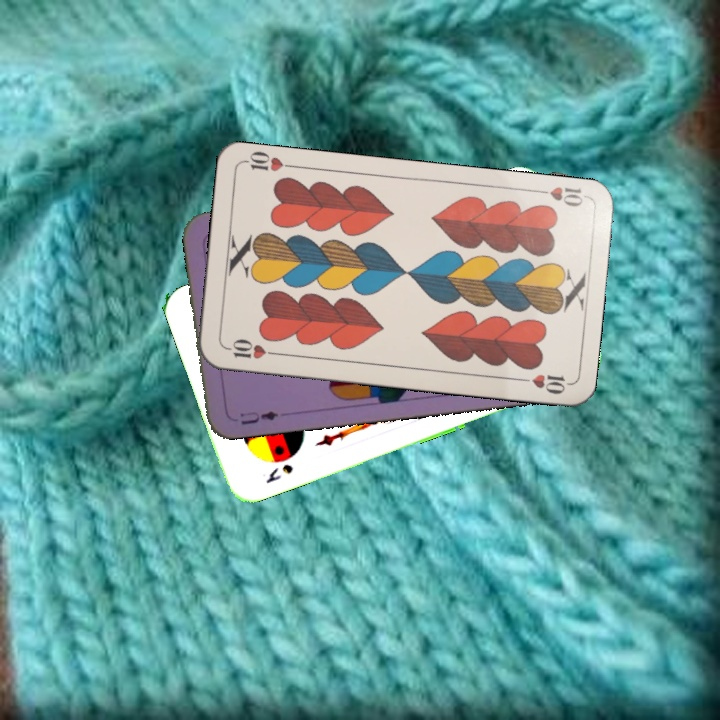EU: (236, 407, 281, 427)
H10: (222, 335, 281, 362), (530, 182, 586, 210)
SK: (262, 460, 296, 486)
